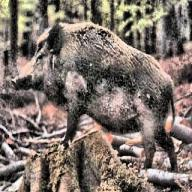boar: (10, 21, 178, 173)
